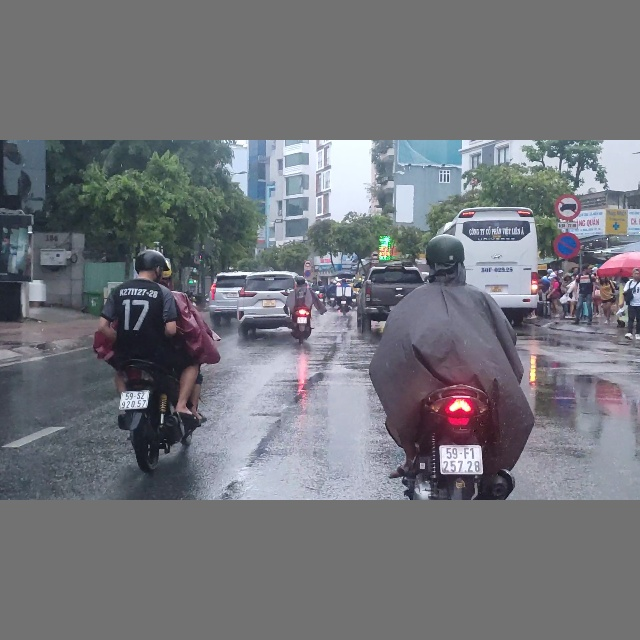P.106a*Xe tai: (555, 194, 582, 221), (371, 251, 380, 259), (304, 260, 311, 267)
P.131a: (552, 231, 581, 259), (304, 270, 311, 277)
